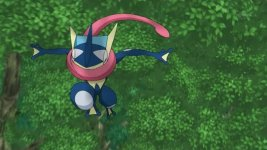greninja: (24, 9, 173, 121)
